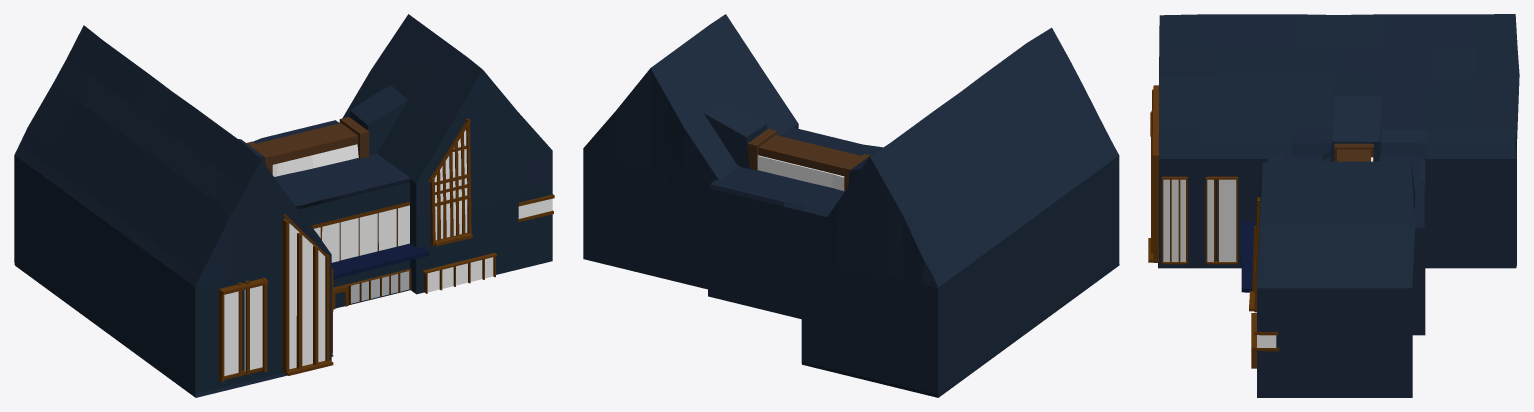
Rendered from CETA.fbx.
The picture shows the model from 3 angles, left to right: view 1: azimuth 30°, elevation 25°; view 2: azimuth 150°, elevation 25°; view 3: azimuth 270°, elevation 25°; orthographic projection.
Visible parts, largest first — view 1: Ceta; view 2: Ceta; view 3: Ceta.
Boxes of the visible parts, x1,y1,x2,y2 form: Ceta: (14,14,554,397); Ceta: (583,14,1119,397); Ceta: (1148,14,1519,397).
Size of the model in its own units: 599 by 314 by 477.
